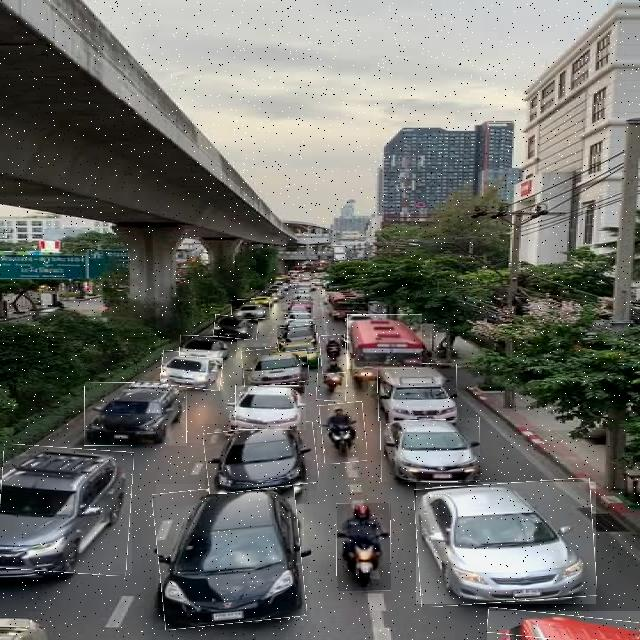Bus: (347, 314, 422, 369)
Car: (416, 482, 596, 604), (156, 484, 304, 626), (0, 446, 132, 574), (205, 424, 317, 491), (84, 383, 187, 446), (381, 418, 480, 482), (487, 611, 640, 640), (378, 364, 457, 420), (235, 386, 306, 430), (242, 347, 309, 385), (161, 352, 223, 390), (180, 335, 237, 358), (278, 325, 318, 351), (213, 316, 258, 339), (232, 298, 270, 320)
Motorcycle: (337, 503, 391, 591), (321, 402, 366, 463), (316, 359, 346, 401), (320, 335, 347, 373)
